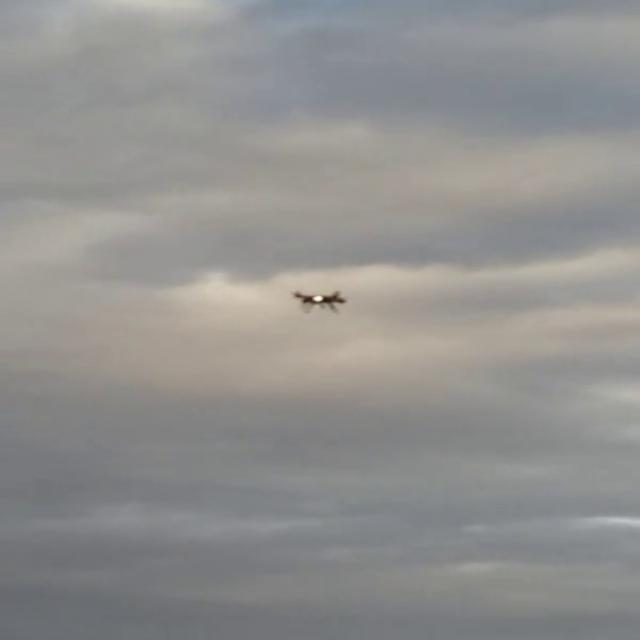drone: (289, 286, 349, 317)
